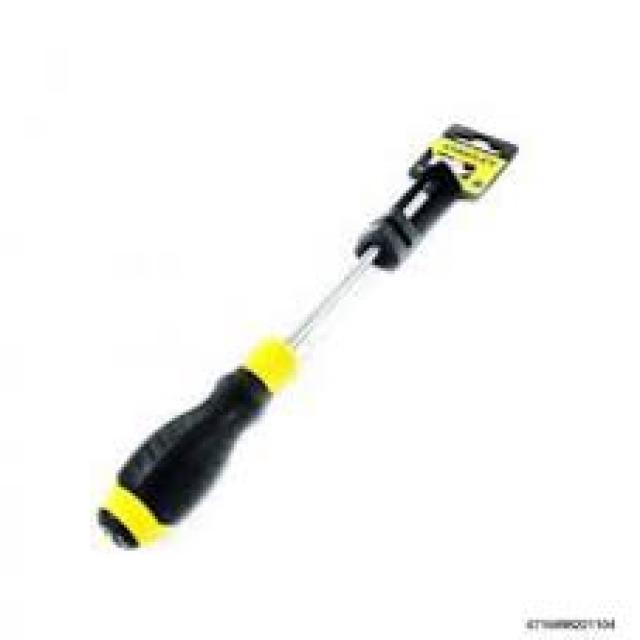screwdriver: (92, 166, 450, 555)
